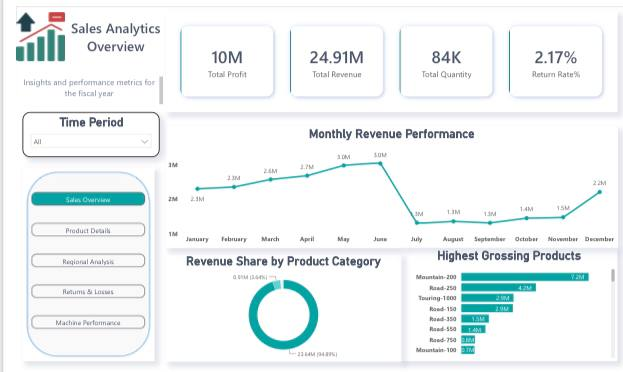

The page's visual inventory and layout, read from the dashboard file:
{"tool":"powerbi","page":{"name":"Sales Overview","canvas":[1280,720],"ordinal":0},"visuals":[{"type":"cardVisual","fields":{"Data":["_Measures.Total Profit","_Measures.Total Revenue","_Measures.Total Quantity","_Measures.Return Rate%"]},"box":[295.6,8.4,895.3,199.9],"z":0},{"type":"lineChart","title":"Monthly Revenue Performance","fields":{"Category":["Dim_Calendar.Month Name"],"Y":["_Measures.Total Revenue"]},"box":[295.2,237.6,895.7,240.5],"z":1000},{"type":"textbox","box":[0,133.2,296.2,66.6],"z":2000},{"type":"textbox","box":[97.8,0,198.4,146],"z":3000},{"type":"donutChart","title":"Revenue Share by Product Category","fields":{"Category":["Dim_Categories.CategoryName"],"Y":["_Measures.Total Revenue"]},"box":[295.2,489.6,466.6,213.1],"z":4000},{"type":"clusteredBarChart","title":"Highest Grossing Products","fields":{"Y":["_Measures.Total Revenue"],"Category":["Dim_Products.ProductName"]},"box":[761.1,479.1,429.4,222.5],"z":5000},{"type":"slicer","title":"Time Period","fields":{"Values":["Dim_Territories.Region"]},"box":[12.8,208.3,270.7,89.3],"z":6000},{"type":"shape","title":"Navigation","box":[12.8,318.9,260.8,382.7],"z":7000,"group":"g1"},{"type":"group","id":"g1","title":"Group 1","box":[12.8,318.9,260.8,382.7],"z":7000},{"type":"image","box":[0,0,97.1,118.6],"z":7001},{"type":"pageNavigator","box":[22.7,360,240.9,286.3],"z":8000,"group":"g1"}]}

Visuals, with their boxes on the page's 1280x720 design canvas (x1, y1, x2, y2). These are canvas units, not pixel positions in the 623x372 screenshot, which may show the page scaled, cropped or inside an application window:
cardVisual - _Measures.Total Profit x _Measures.Total Revenue: crop(296, 8, 1191, 208)
"Monthly Revenue Performance" lineChart: crop(295, 238, 1191, 478)
textbox: crop(0, 133, 296, 200)
textbox: crop(98, 0, 296, 146)
"Revenue Share by Product Category" donutChart: crop(295, 490, 762, 703)
"Highest Grossing Products" clusteredBarChart: crop(761, 479, 1190, 702)
"Time Period" slicer: crop(13, 208, 284, 298)
"Navigation" shape: crop(13, 319, 274, 702)
"Group 1" group: crop(13, 319, 274, 702)
image: crop(0, 0, 97, 119)
pageNavigator: crop(23, 360, 264, 646)
